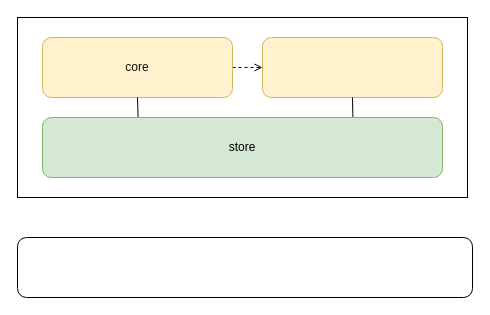
This 490x315 diagram has some shape labels left out. Each missing label, with the centre of its shape:
"celeste cli" belongs at (244,267).
"react" belongs at (352,67).
